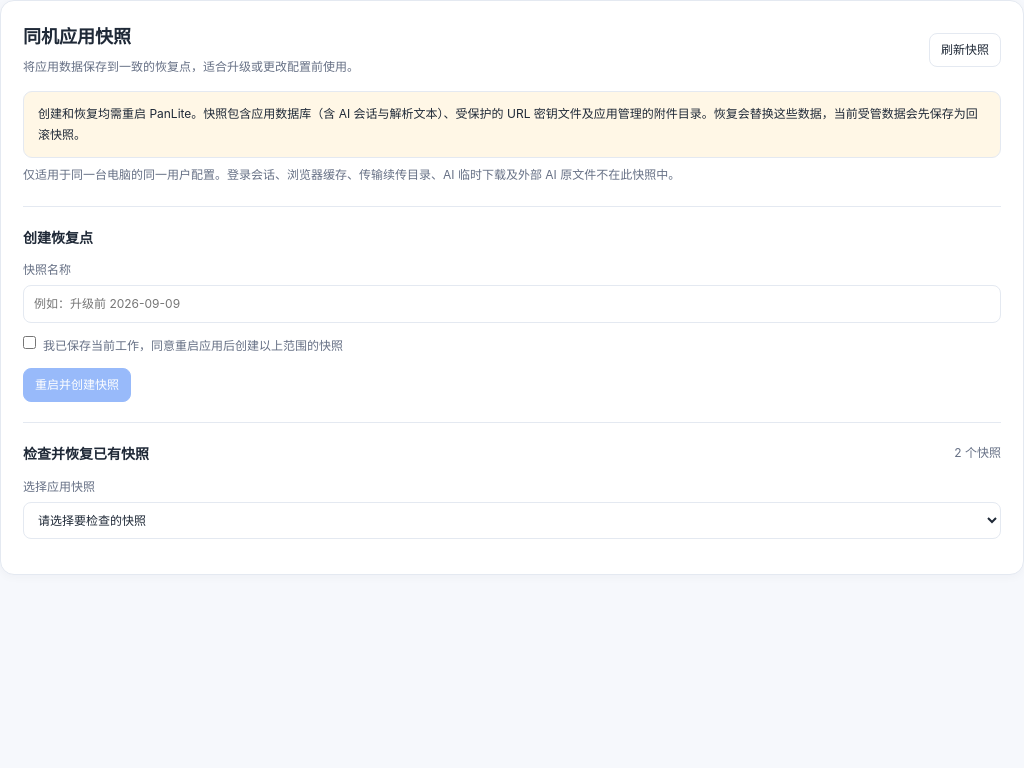
it: never enables restoring a snapshot that failed verification
Step 1. Select "升级前 · 2026/9/15 05:54:26 · 可检查" in the dropdown named "选择应用快照" → (512, 520), box 23,502 -> 1001,539
(page scrolled)
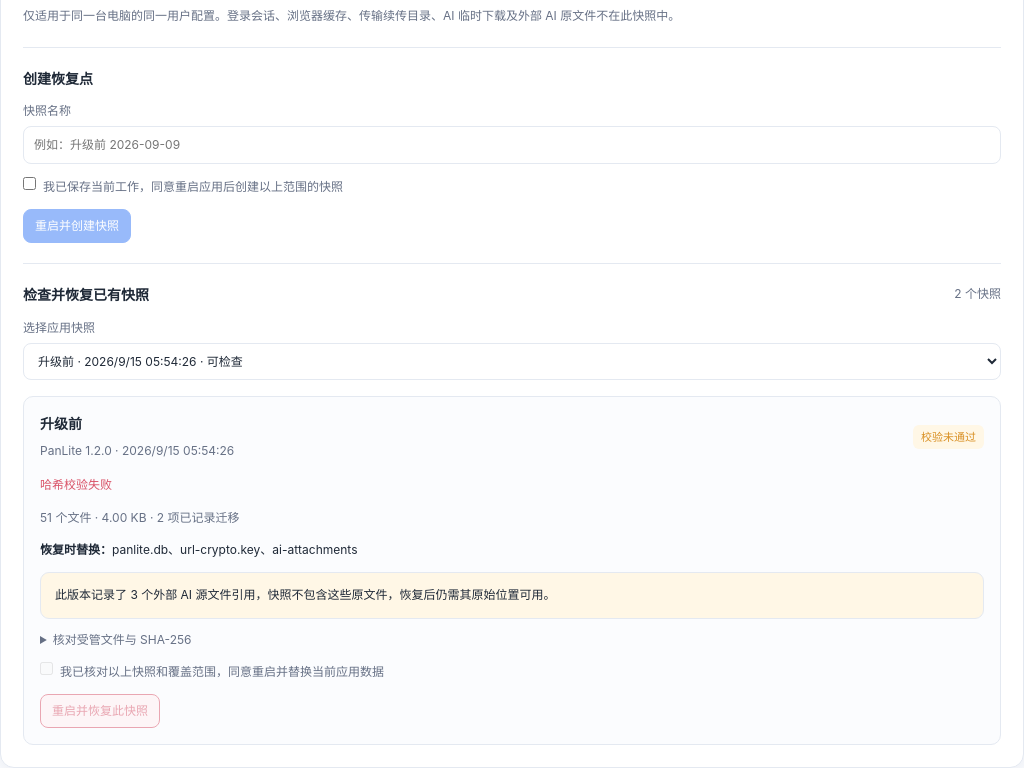
Expected: the text "哈希校验失败" is shown, 40,477 -> 112,492
Expected: the button "重启并恢复此快照" is disabled, 40,694 -> 160,728
